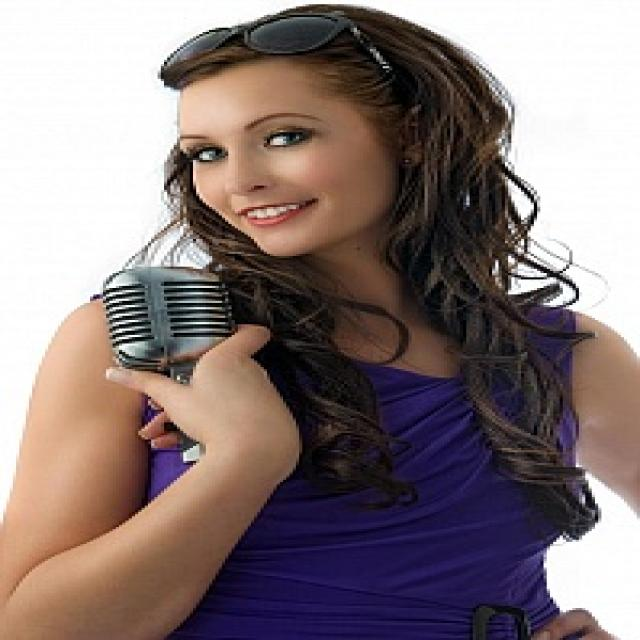Eyes: (182, 120, 327, 163)
